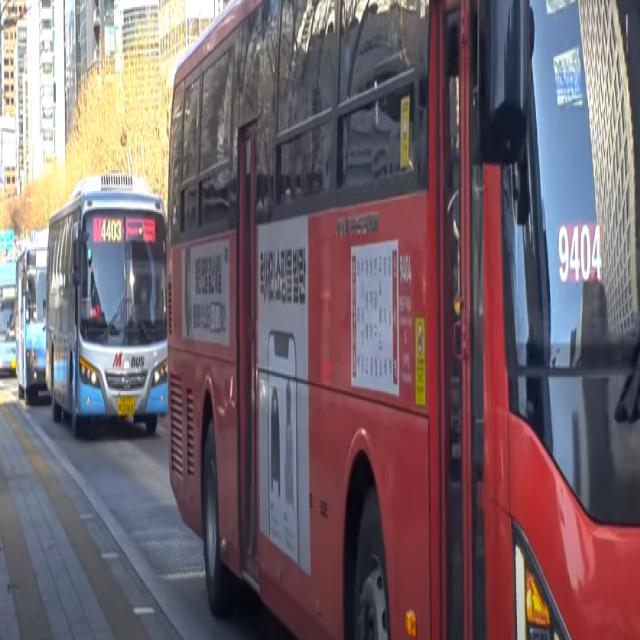bus-number: (100, 218, 122, 244)
